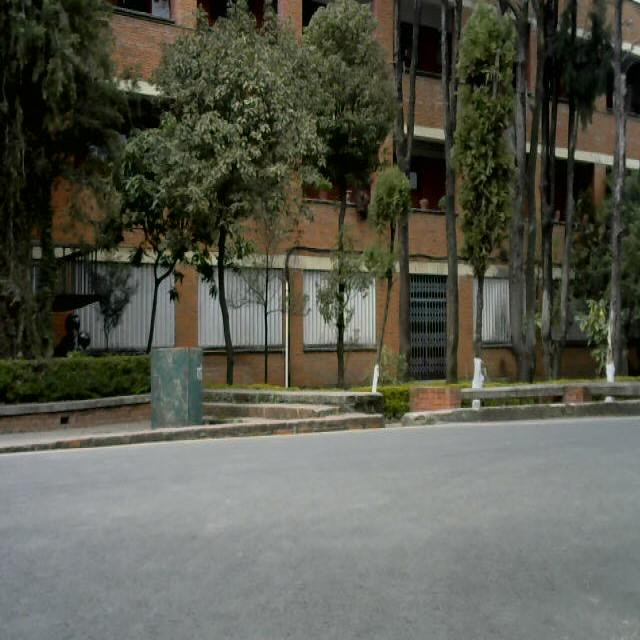Road: (1, 428, 639, 640)
dustbin: (146, 340, 208, 433)
trees: (152, 0, 287, 341), (303, 7, 408, 397), (0, 0, 106, 361), (453, 1, 515, 394)
